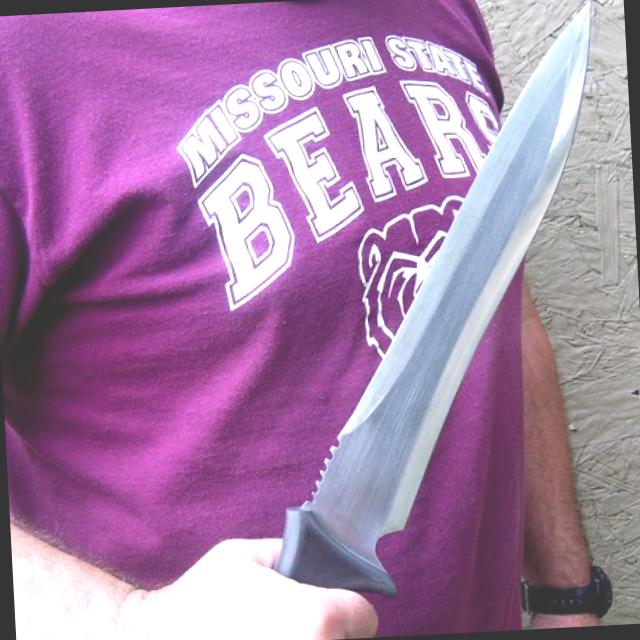knife: (192, 0, 636, 639)
